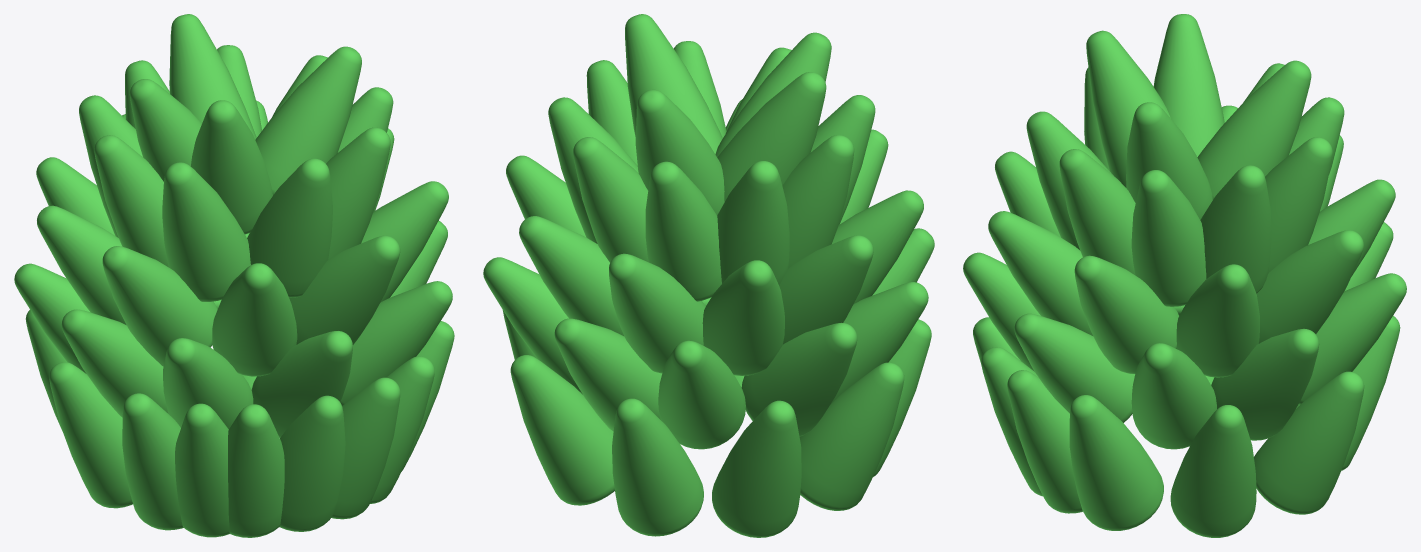
The model's file is Bush1.fbx.
3 renders of one model, left to right at view 1: azimuth 30°, elevation 25°; view 2: azimuth 150°, elevation 25°; view 3: azimuth 270°, elevation 25°, orthographic. The views are drawn at different scales.
Visible parts, largest first — view 1: Bush1; view 2: Bush1; view 3: Bush1.
Boxes of the visible parts, x1=… form: Bush1: x1=14, y1=14, x2=454, y2=537; Bush1: x1=483, y1=14, x2=934, y2=537; Bush1: x1=963, y1=14, x2=1406, y2=537.
Bounding box in the file's own units: 0.3079 × 0.3162 × 0.3083.
